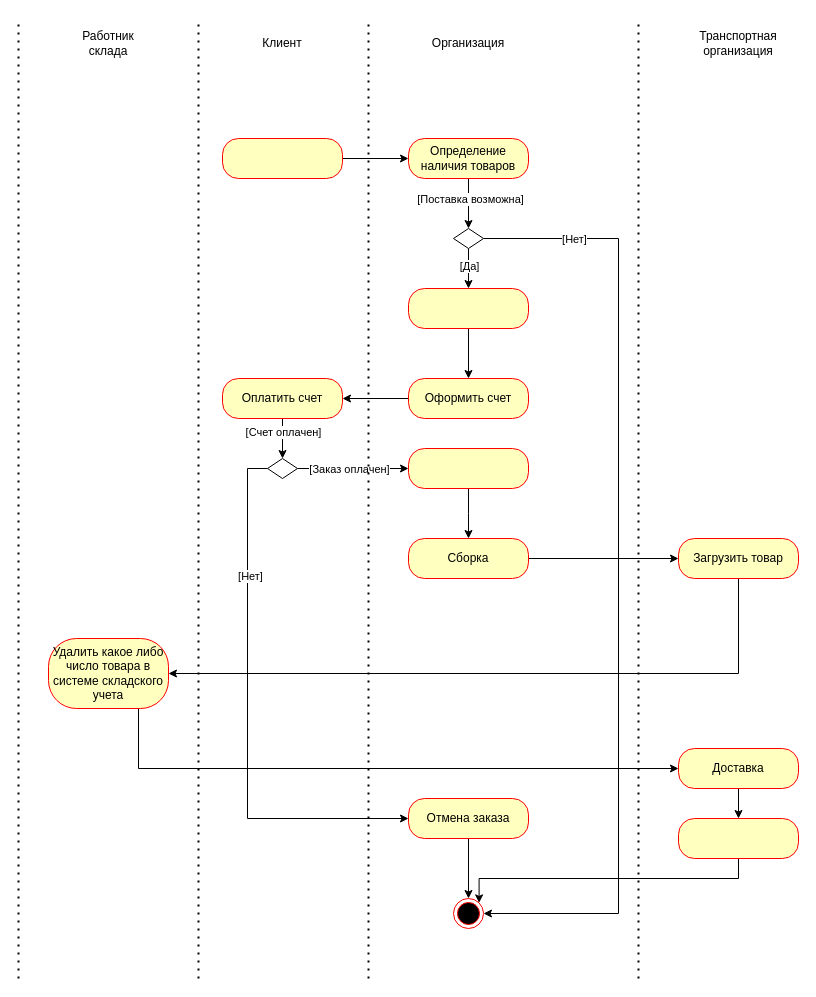
Some shapes in this 816 by 997 pixel diagram are drawn without their labels. Each missing label, with the box of its shape:
Выбор товара: (222, 138, 342, 178)
Выписать чек: (408, 448, 528, 488)
Отгрузка: (678, 818, 798, 858)
Создать заказ: (408, 288, 528, 328)
